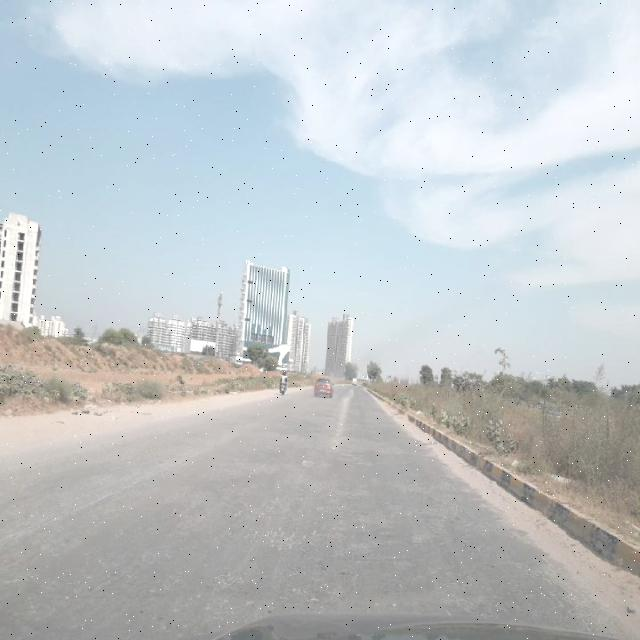D20: (5, 442, 199, 608)
